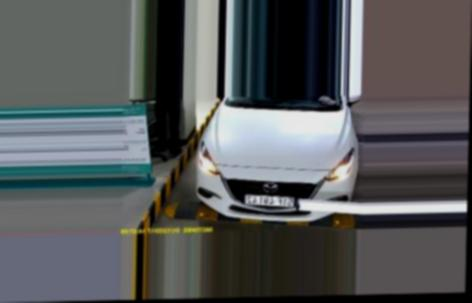License_Plate: (245, 192, 295, 207)
